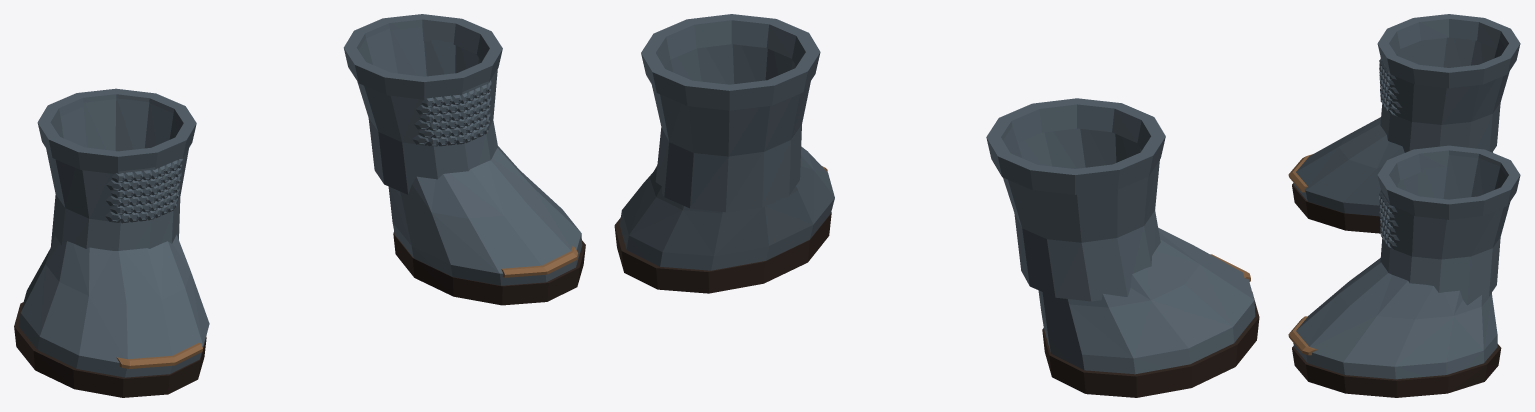
File: chain_feet-male.glb
3 renders of one model, left to right at view 1: azimuth 30°, elevation 25°; view 2: azimuth 150°, elevation 25°; view 3: azimuth 270°, elevation 25°, orthographic. The views are drawn at different scales.
Visible parts, largest first — view 1: chain boot foot -1, chain boot foot 1, chain boot upper -1, chain boot upper 1, Turned boot cuff 1, Turned boot cuff -1, Boot sole -1, Boot sole 1, chain woven coverage on chain boot upper 1, chain woven coverage on chain boot upper -1, Boot toe welt -1, Boot toe welt 1; view 2: chain boot foot -1, chain boot upper -1, chain boot upper 1, chain boot foot 1, Turned boot cuff 1, Turned boot cuff -1, Boot sole -1, Boot sole 1; view 3: chain boot foot 1, chain boot upper 1, chain boot upper -1, Turned boot cuff -1, chain boot foot -1, Turned boot cuff 1, Boot sole 1, Boot sole -1, chain woven coverage on chain boot upper -1, chain woven coverage on chain boot upper 1, Boot toe welt 1, Boot toe welt -1.
Part boxes in pixels (x1=…): chain boot foot -1: x1=18, y1=235, x2=209, y2=377; chain boot foot 1: x1=388, y1=146, x2=582, y2=285; chain boot upper -1: x1=46, y1=98, x2=188, y2=250; chain boot upper 1: x1=357, y1=27, x2=498, y2=194; Turned boot cuff 1: x1=343, y1=14, x2=502, y2=99; Turned boot cuff -1: x1=37, y1=88, x2=196, y2=173; Boot sole -1: x1=14, y1=302, x2=206, y2=397; Boot sole 1: x1=393, y1=231, x2=585, y2=305; chain woven coverage on chain boot upper 1: x1=412, y1=80, x2=491, y2=146; chain woven coverage on chain boot upper -1: x1=105, y1=158, x2=183, y2=223; Boot toe welt -1: x1=116, y1=342, x2=202, y2=368; Boot toe welt 1: x1=501, y1=246, x2=578, y2=277; chain boot foot -1: x1=1038, y1=228, x2=1255, y2=374; chain boot upper -1: x1=1003, y1=126, x2=1160, y2=301; chain boot upper 1: x1=652, y1=44, x2=810, y2=212; chain boot foot 1: x1=619, y1=146, x2=834, y2=270; Turned boot cuff 1: x1=641, y1=14, x2=820, y2=110; Turned boot cuff -1: x1=986, y1=98, x2=1165, y2=194; Boot sole -1: x1=1042, y1=292, x2=1259, y2=397; Boot sole 1: x1=614, y1=212, x2=831, y2=293; chain boot foot 1: x1=1293, y1=258, x2=1497, y2=379; chain boot upper 1: x1=1380, y1=155, x2=1510, y2=305; chain boot upper -1: x1=1380, y1=37, x2=1509, y2=152; Turned boot cuff -1: x1=1377, y1=14, x2=1520, y2=88; chain boot foot -1: x1=1293, y1=117, x2=1492, y2=216; Turned boot cuff 1: x1=1377, y1=145, x2=1520, y2=219; Boot sole 1: x1=1292, y1=344, x2=1501, y2=397; Boot sole -1: x1=1292, y1=183, x2=1380, y2=233; chain woven coverage on chain boot upper -1: x1=1379, y1=58, x2=1402, y2=116; chain woven coverage on chain boot upper 1: x1=1379, y1=191, x2=1399, y2=249; Boot toe welt 1: x1=1288, y1=316, x2=1317, y2=355; Boot toe welt -1: x1=1288, y1=154, x2=1312, y2=192.
Size of the model in its own units: 2.89 by 1.03 by 1.24.
